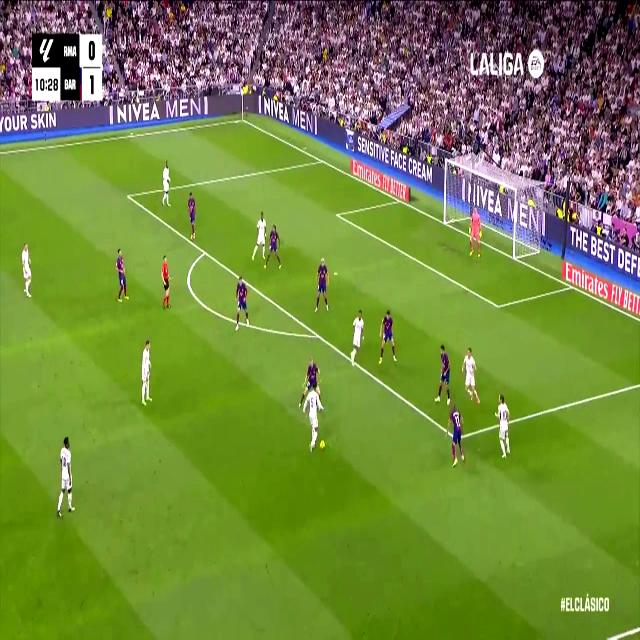bigarea_top_inner: (125, 188, 131, 202)
bigarea_top_outter: (317, 152, 325, 166)
bottom_arc_area_intersection: (312, 325, 322, 343)
corner: (238, 113, 248, 125)
smallarea_top_inner: (333, 205, 342, 222)
top_arc_area_intersection: (200, 243, 208, 260)
